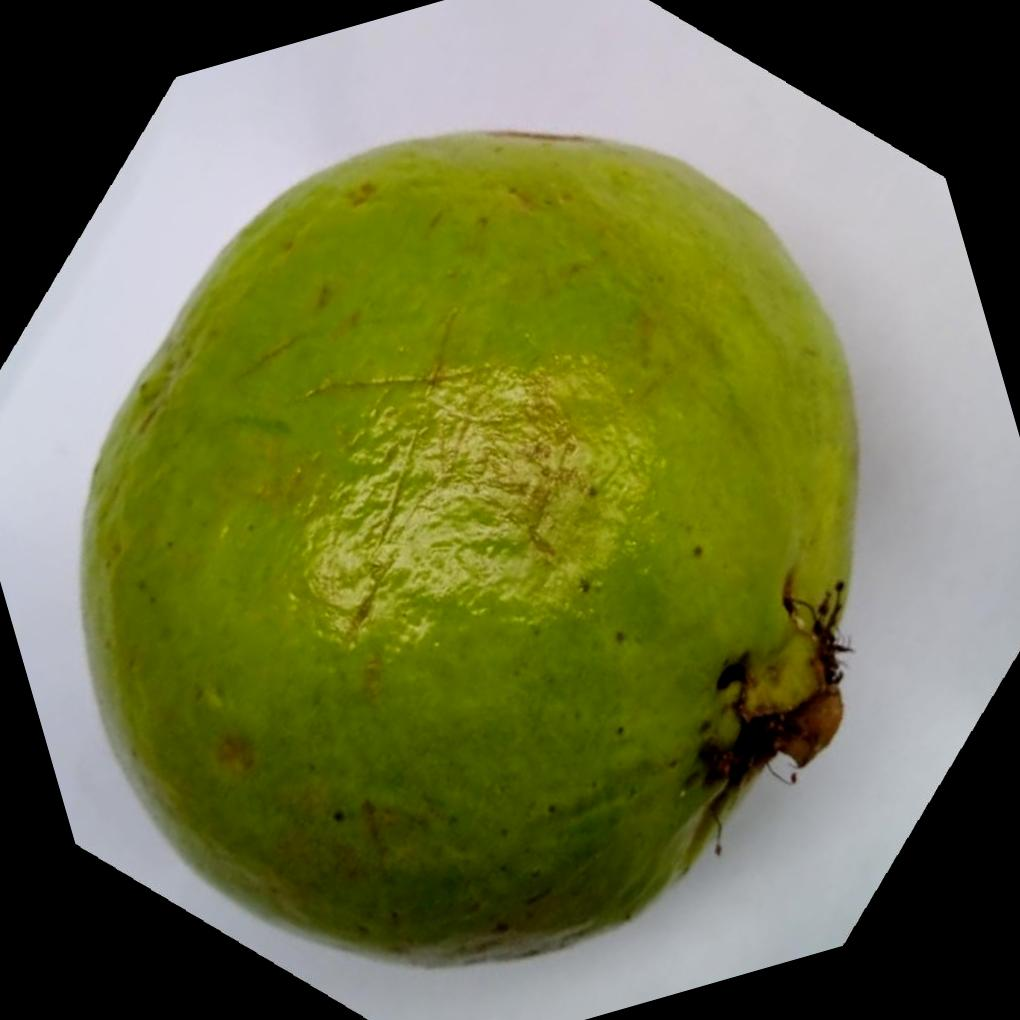FreshGuava: (79, 124, 865, 971)
